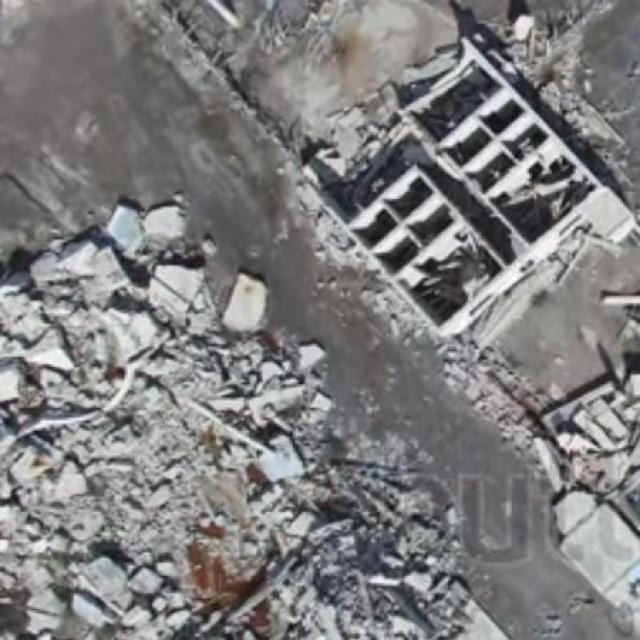collapsed_building: (0, 233, 414, 639), (317, 7, 617, 471)
